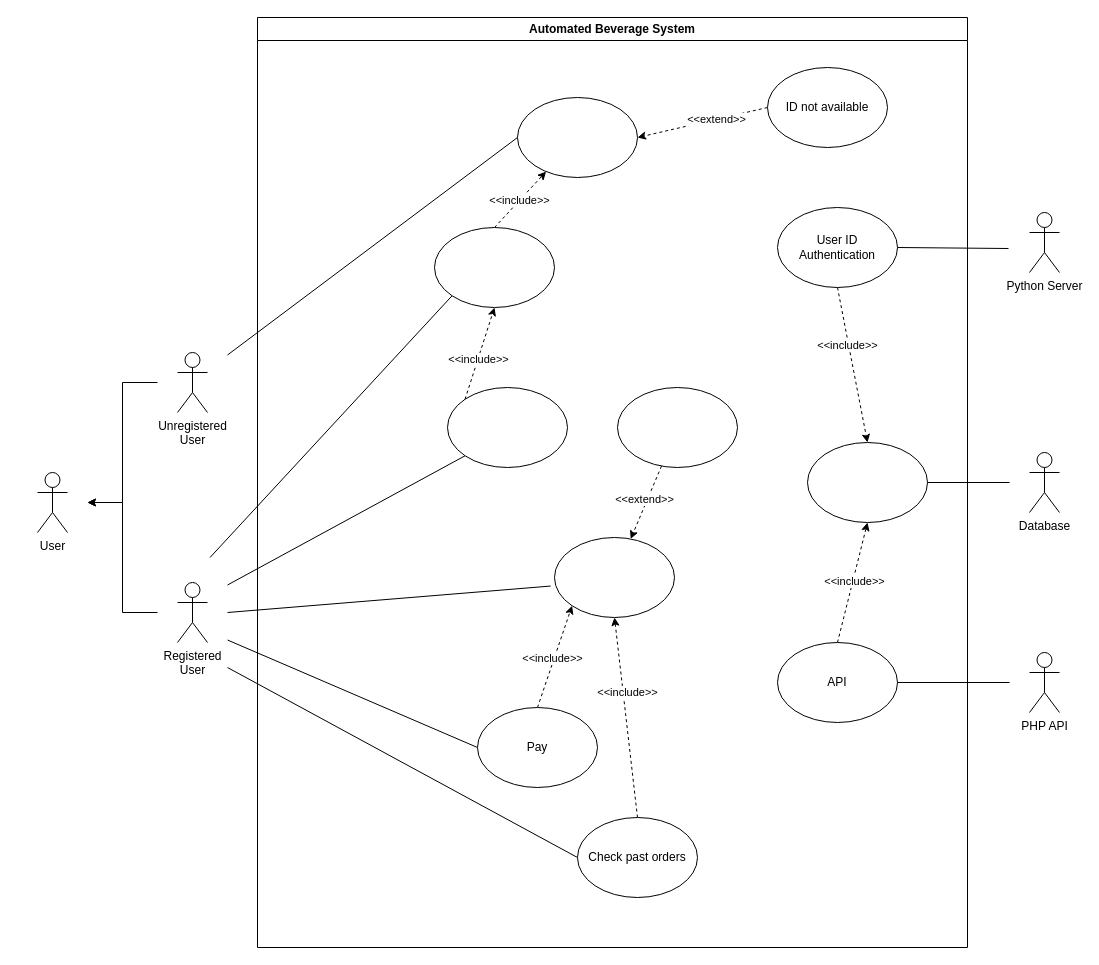
The diagram is 1099 pixels wide and 965 high, and some of its shapes have lost their labels. The shapes that lost their labels are listed below. From the top down, each one's box as (x1, y1, x2, y2) in pixels, then its label:
(516, 96, 638, 178): Register
(434, 226, 554, 308): Obtain NFC glass
(446, 386, 568, 468): Get Drink
(616, 386, 738, 468): Invalid E-mail/Password
(806, 442, 928, 522): QUERY
(554, 536, 674, 618): Login
